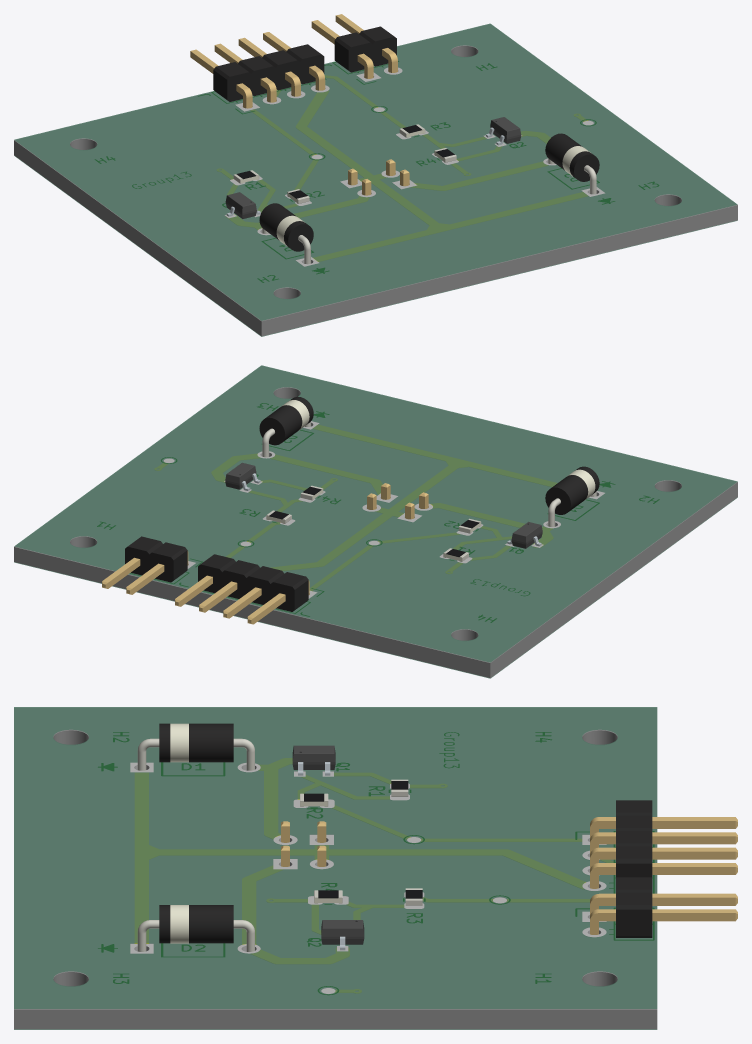
File: line-follower-rear-power-board.glb
3 views of the same model, one above another, from view 1: azimuth 30°, elevation 25°; view 2: azimuth 150°, elevation 25°; view 3: azimuth 270°, elevation 25° (orthographic). The views are drawn at different scales.
Parts seen in each view (by area): view 1: =>[0:1:1:13], =>[0:1:1:12], =>[0:1:1:8], J5, J1, D1, D2, =>[0:1:1:9], =>[0:1:1:11], =>[0:1:1:2] (×2); view 2: =>[0:1:1:12], =>[0:1:1:13], =>[0:1:1:8], J5, J1, D1, D2, =>[0:1:1:11], =>[0:1:1:9], =>[0:1:1:2] (×2); view 3: =>[0:1:1:12], =>[0:1:1:13], =>[0:1:1:8], J5, J1, D1, D2, =>[0:1:1:9], =>[0:1:1:11], =>[0:1:1:2] (×2).
Part boxes in pixels (<box>): =>[0:1:1:13]: <box>14,24,737,336</box>; =>[0:1:1:12]: <box>14,23,737,336</box>; =>[0:1:1:8]: <box>217,76,587,261</box>; J5: <box>190,32,325,108</box>; J1: <box>311,14,397,78</box>; D1: <box>259,203,313,264</box>; D2: <box>545,133,599,194</box>; =>[0:1:1:9]: <box>224,67,605,266</box>; =>[0:1:1:11]: <box>94,61,659,282</box>; =>[0:1:1:2] (×2): <box>225,117,521,218</box>; =>[0:1:1:12]: <box>14,365,737,678</box>; =>[0:1:1:13]: <box>14,366,737,678</box>; =>[0:1:1:8]: <box>155,425,556,590</box>; J5: <box>175,554,309,624</box>; J1: <box>102,536,188,594</box>; D1: <box>545,466,599,526</box>; D2: <box>259,396,313,457</box>; =>[0:1:1:11]: <box>97,403,659,622</box>; =>[0:1:1:9]: <box>163,421,605,598</box>; =>[0:1:1:2] (×2): <box>225,462,542,548</box>; =>[0:1:1:12]: <box>14,707,657,1029</box>; =>[0:1:1:13]: <box>14,708,657,1029</box>; =>[0:1:1:8]: <box>135,758,612,992</box>; J5: <box>590,800,737,888</box>; J1: <box>590,877,737,937</box>; D1: <box>137,723,254,770</box>; D2: <box>137,905,254,951</box>; =>[0:1:1:9]: <box>130,762,606,993</box>; =>[0:1:1:11]: <box>98,732,654,995</box>; =>[0:1:1:2] (×2): <box>292,745,364,944</box>.
Bounding box in the file's own units: 0.05 × 0.0134 × 0.0507.
